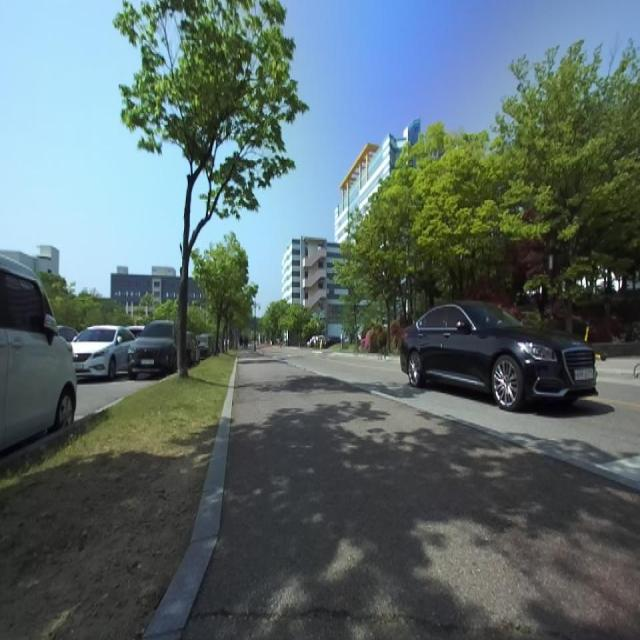sidewalk: (184, 355, 640, 639), (143, 358, 237, 640)
